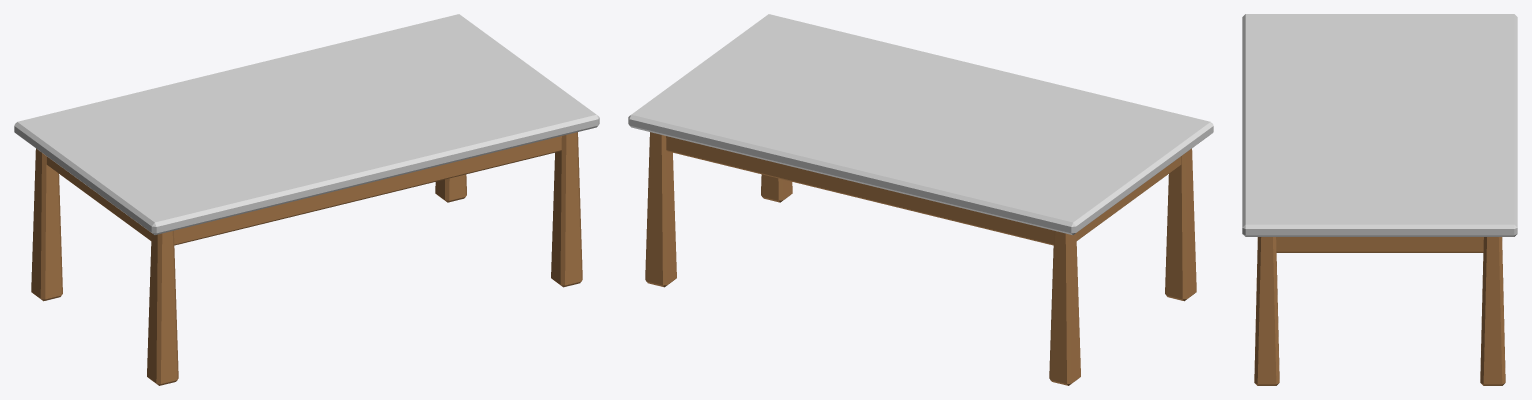
File: table-coffee.glb
The picture shows the model from 3 angles, left to right: view 1: azimuth 30°, elevation 25°; view 2: azimuth 150°, elevation 25°; view 3: azimuth 270°, elevation 25°; orthographic projection. The views are drawn at different scales.
Parts seen in each view (by area): view 1: table-coffee.tint, table-coffee.wood; view 2: table-coffee.tint, table-coffee.wood; view 3: table-coffee.tint, table-coffee.wood.
Boxes of the visible parts, x1,y1,x2,y2 form: table-coffee.tint: (14, 14, 599, 234); table-coffee.wood: (31, 132, 582, 385); table-coffee.tint: (628, 14, 1213, 234); table-coffee.wood: (645, 132, 1196, 385); table-coffee.tint: (1242, 14, 1517, 236); table-coffee.wood: (1254, 237, 1505, 385).
Bounding box in the file's own units: 1.1 × 0.4 × 0.6.
